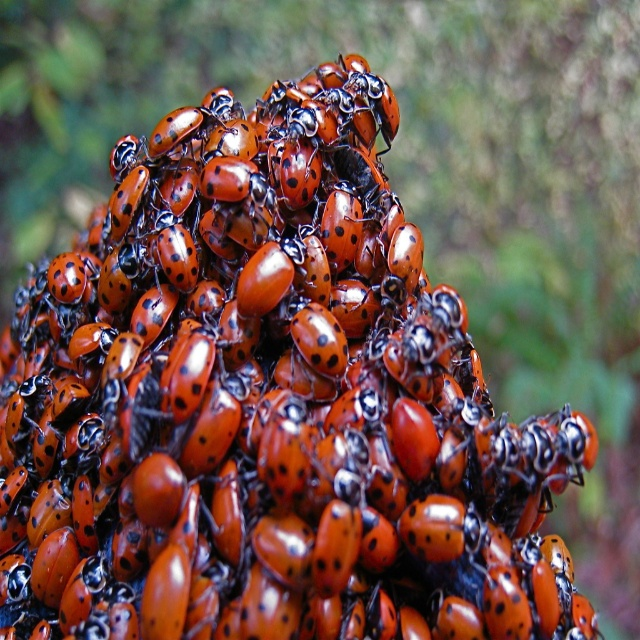Ladybug: (0, 52, 606, 639)
